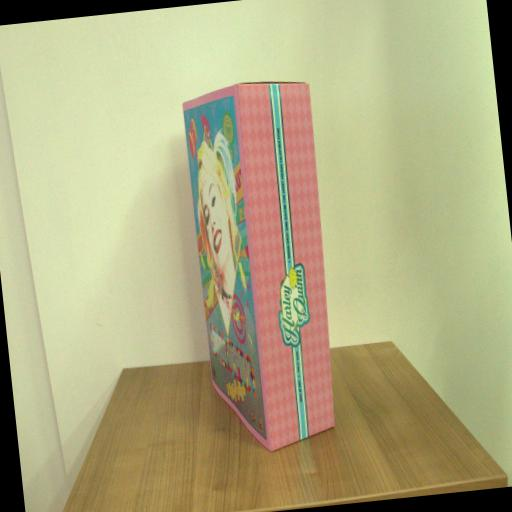Harley: (179, 76, 343, 460)
